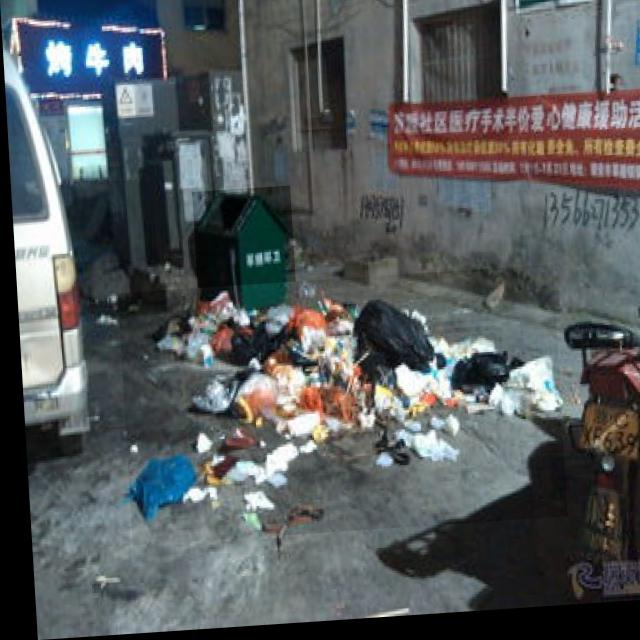garbage: (114, 272, 561, 547)
garbage_bin: (190, 190, 293, 314)
